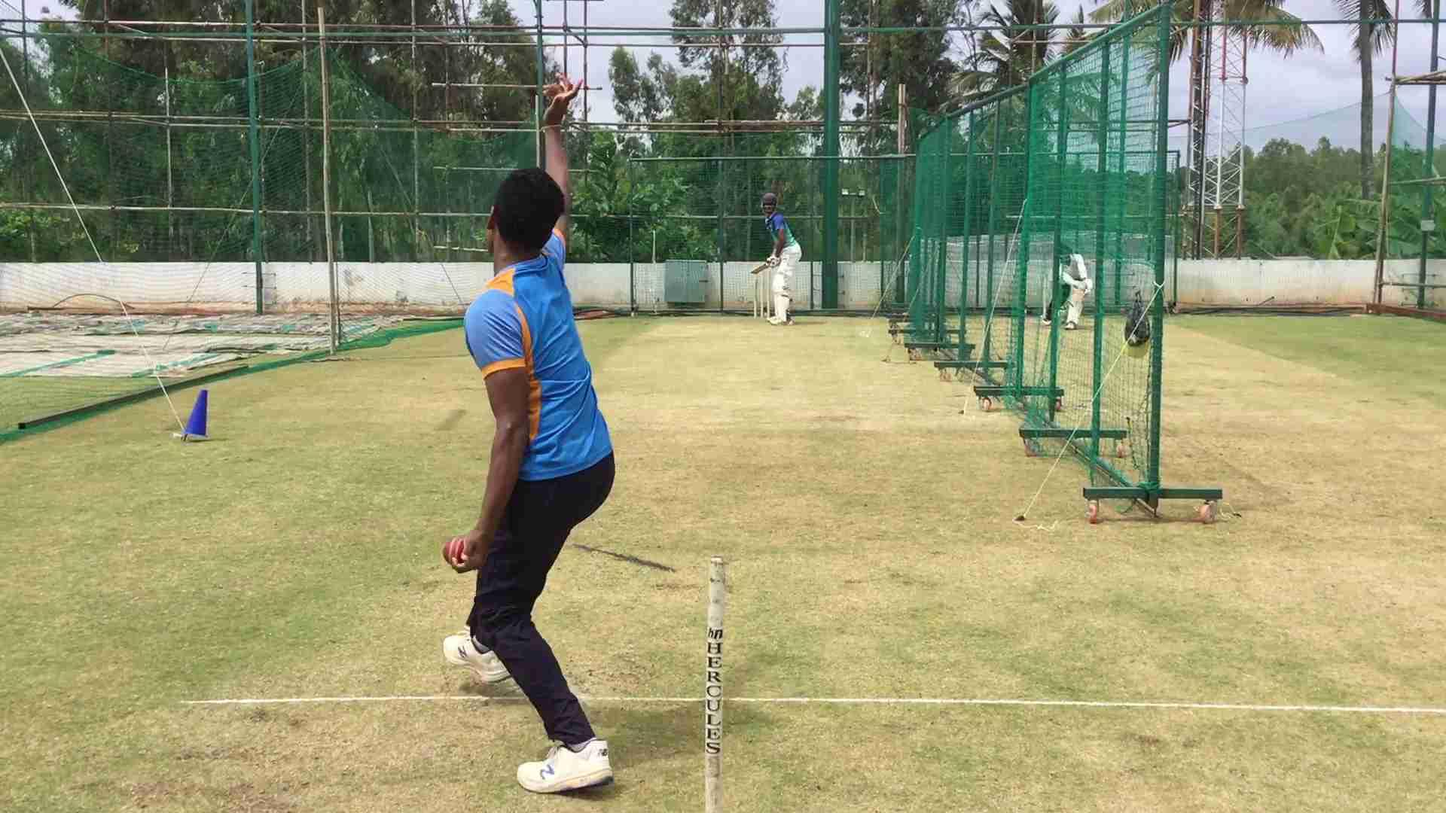batsman: (754, 189, 810, 331)
